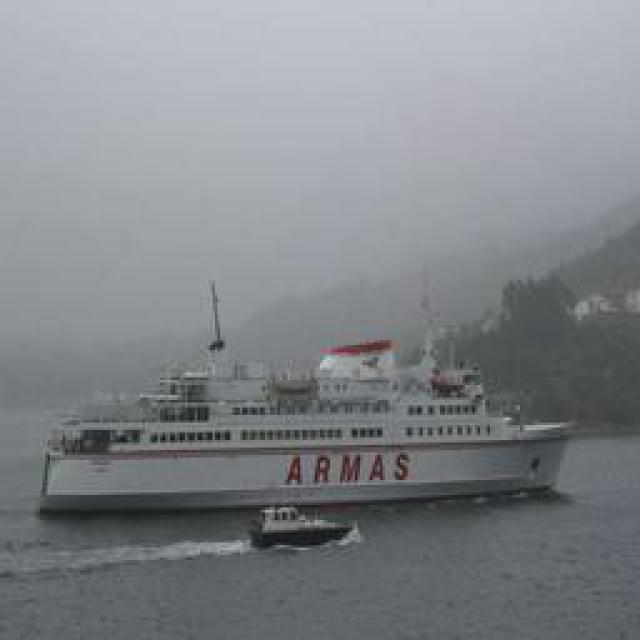Ship: (41, 294, 576, 519)
